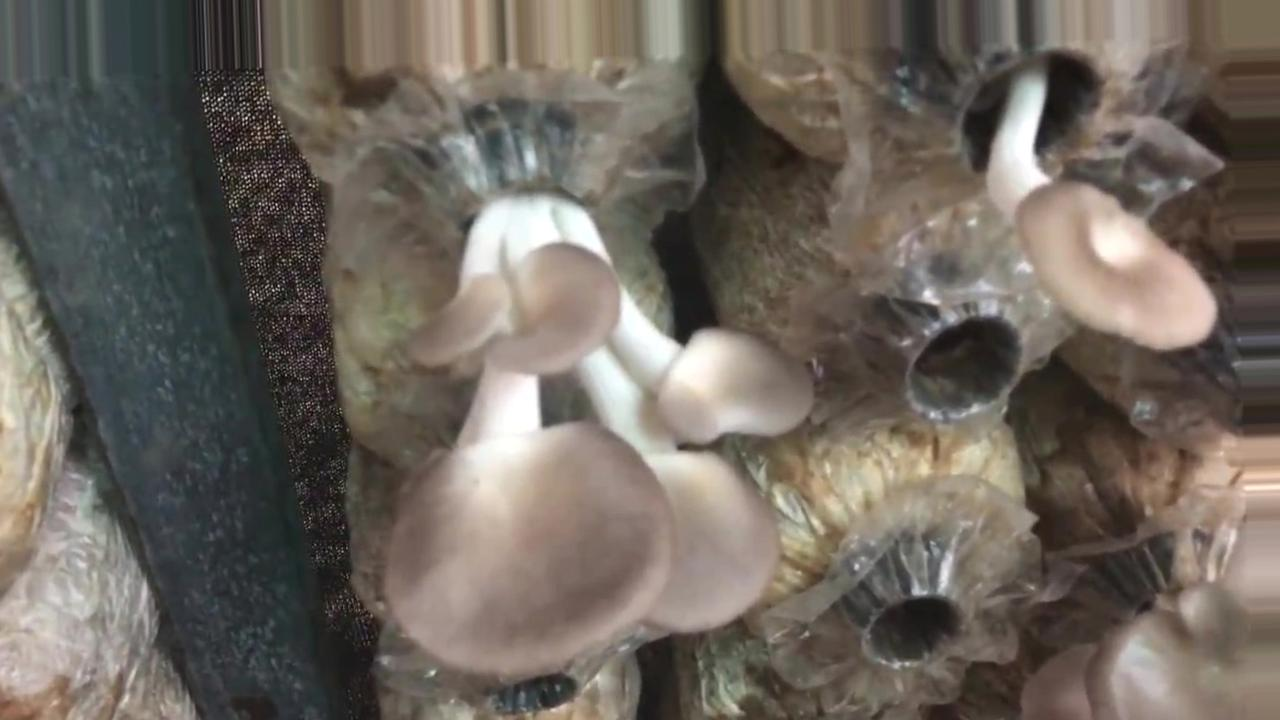nam: (386, 139, 806, 677), (955, 32, 1214, 348), (1020, 581, 1277, 720)
